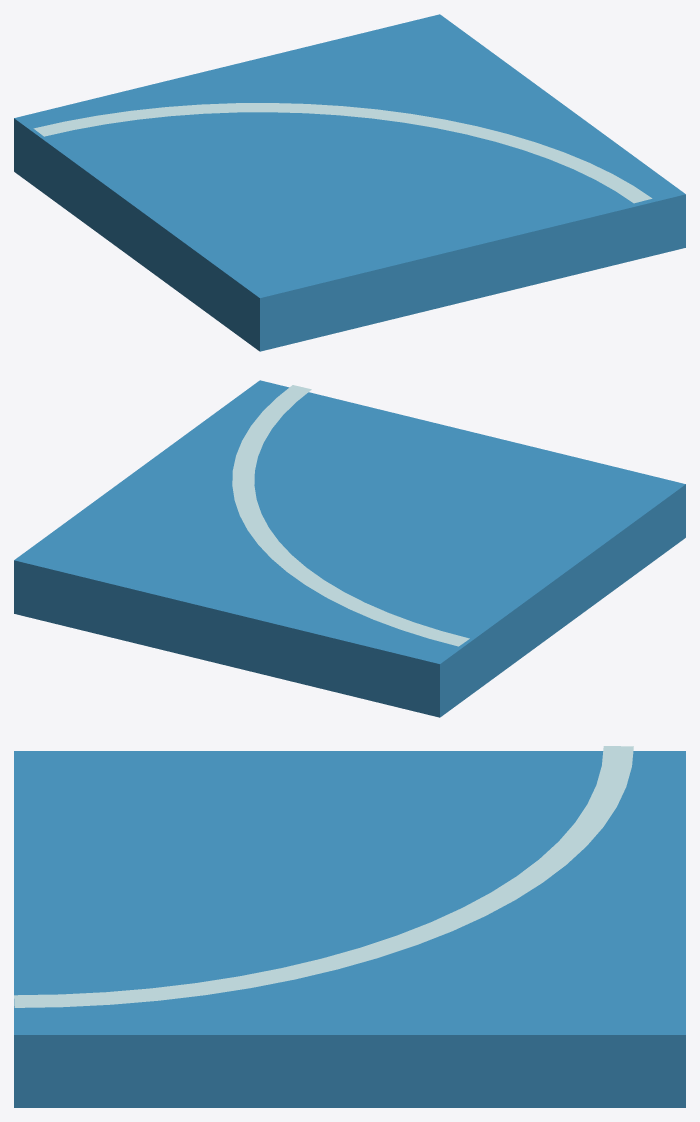
Rendered from water_edge_corner_inner_01.glb.
3 views of the same model, one above another, from view 1: azimuth 30°, elevation 25°; view 2: azimuth 150°, elevation 25°; view 3: azimuth 270°, elevation 25° (orthographic). The views are drawn at different scales.
Visible parts, largest first — view 1: water_edge_corner_inner_01; view 2: water_edge_corner_inner_01; view 3: water_edge_corner_inner_01.
Boxes of the visible parts, x1,y1,x2,y2 form: water_edge_corner_inner_01: (14, 14, 685, 351); water_edge_corner_inner_01: (14, 380, 685, 717); water_edge_corner_inner_01: (14, 746, 685, 1107).
Size of the model in its own units: 1 by 0.128 by 1.
